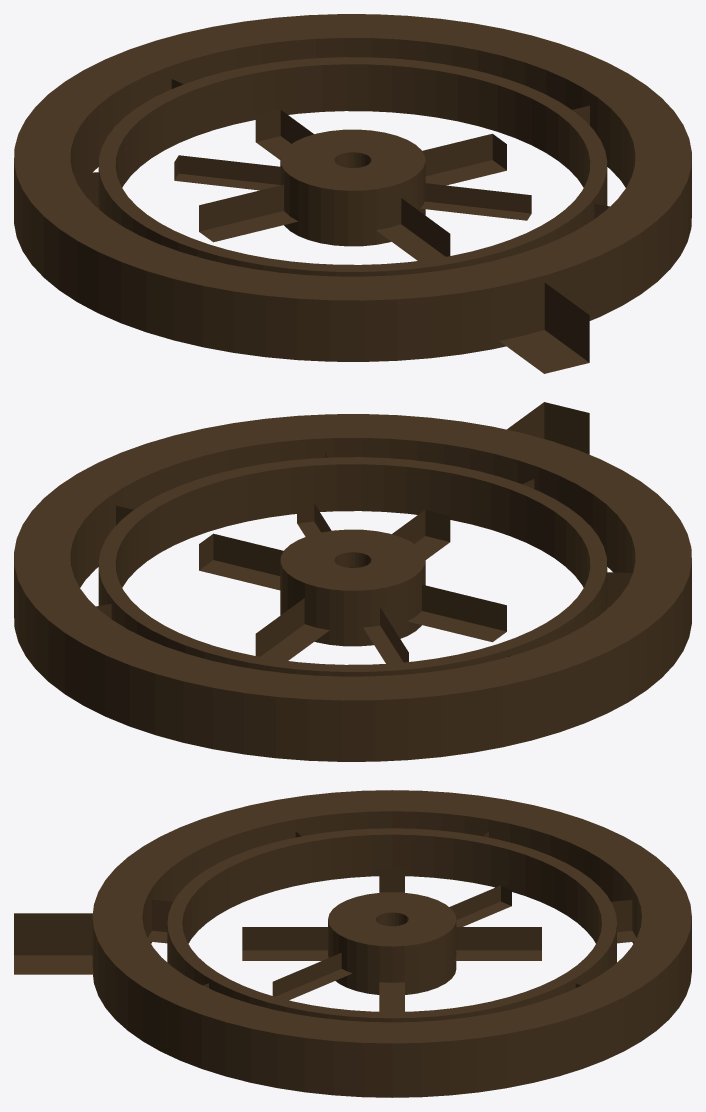
Rendered from WardAmulet_LOD0.obj.
The picture shows the model from 3 angles, top to bottom: view 1: azimuth 30°, elevation 25°; view 2: azimuth 150°, elevation 25°; view 3: azimuth 270°, elevation 25°; orthographic projection. The views are drawn at different scales.
Parts seen in each view (by area): view 1: VelegRadWardAmulet; view 2: VelegRadWardAmulet; view 3: VelegRadWardAmulet.
Boxes of the visible parts, <box> form: VelegRadWardAmulet: <box>14,14,691,373</box>; VelegRadWardAmulet: <box>14,402,691,761</box>; VelegRadWardAmulet: <box>14,790,691,1097</box>.
Bounding box in the file's own units: 8.4 × 0.84 × 9.5.
